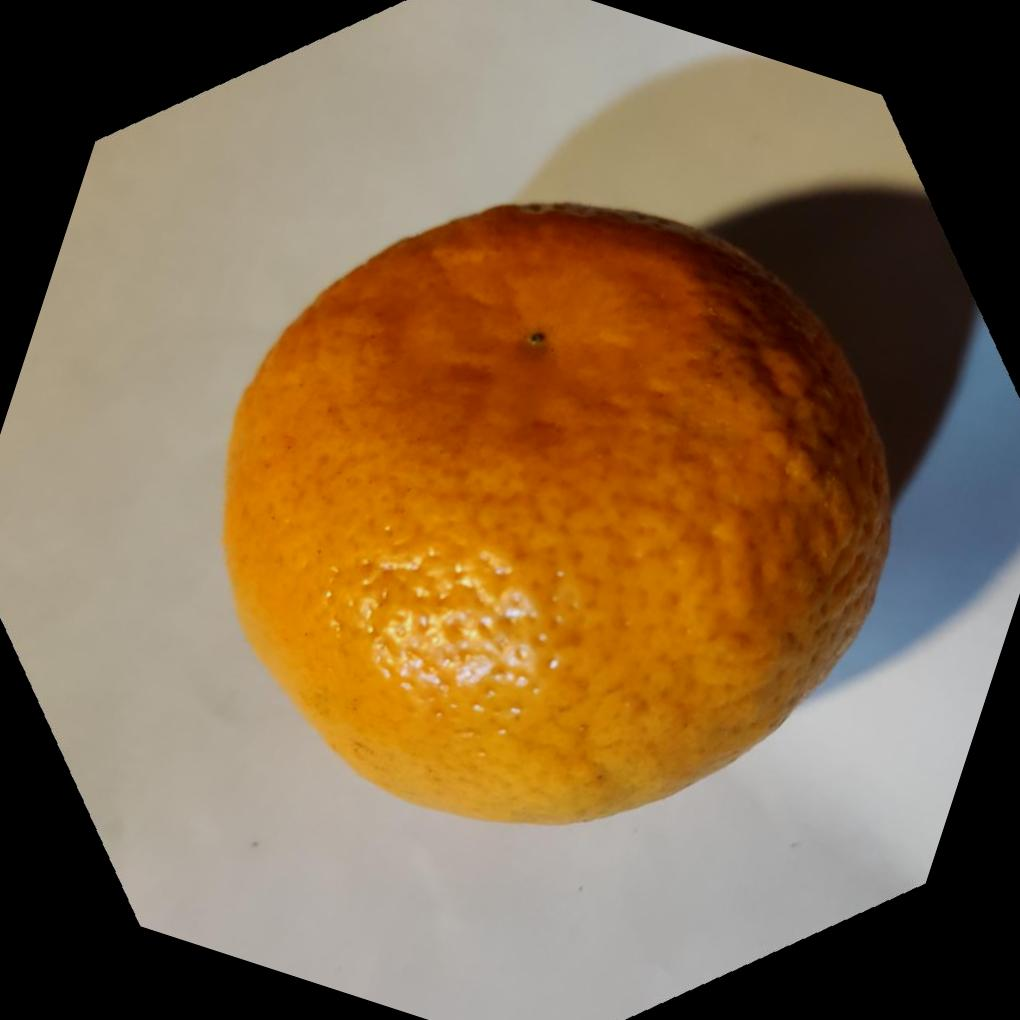FreshGuava: (217, 198, 892, 825)
